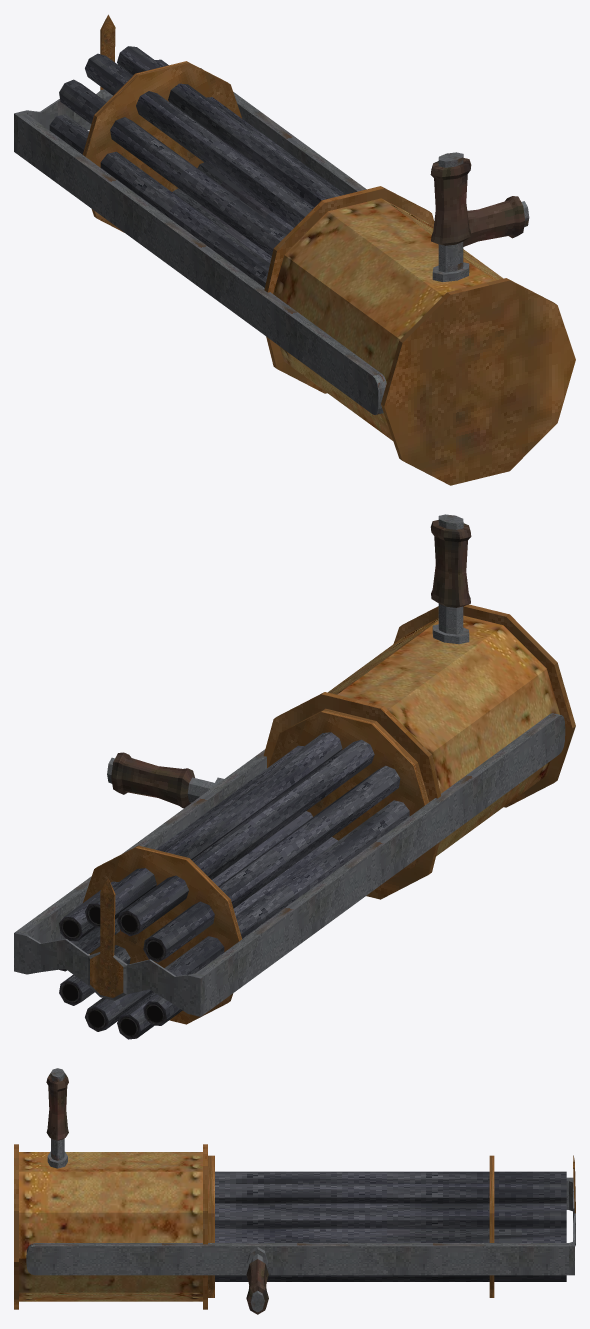
The model's file is gatling.glb.
3 renders of one model, top to bottom at view 1: azimuth 30°, elevation 25°; view 2: azimuth 150°, elevation 25°; view 3: azimuth 270°, elevation 25°, orthographic. The views are drawn at different scales.
Parts seen in each view (by area): view 1: Object_6, Object_7, Object_10, Object_9, Object_11; view 2: Object_7, Object_10, Object_6, Object_9, Object_11, Object_8; view 3: Object_7, Object_9, Object_10, Object_6, Object_11.
Part boxes in pixels (x1,y1,x2,y2): Object_6: (82,14,575,485); Object_7: (49,46,345,287); Object_10: (14,68,529,414); Object_9: (273,198,503,440); Object_11: (430,158,525,246); Object_7: (61,732,409,1037); Object_10: (14,514,565,1016); Object_6: (83,604,575,1024); Object_9: (328,615,559,856); Object_11: (111,520,471,808); Object_8: (59,903,166,1039); Object_7: (215,1171,566,1281); Object_9: (19,1152,202,1301); Object_10: (26,1068,575,1312); Object_6: (14,1144,575,1309); Object_11: (46,1073,268,1314).
Size of the model in its own units: 0.4675 by 0.4436 by 1.
6 materials, 6 textured.
